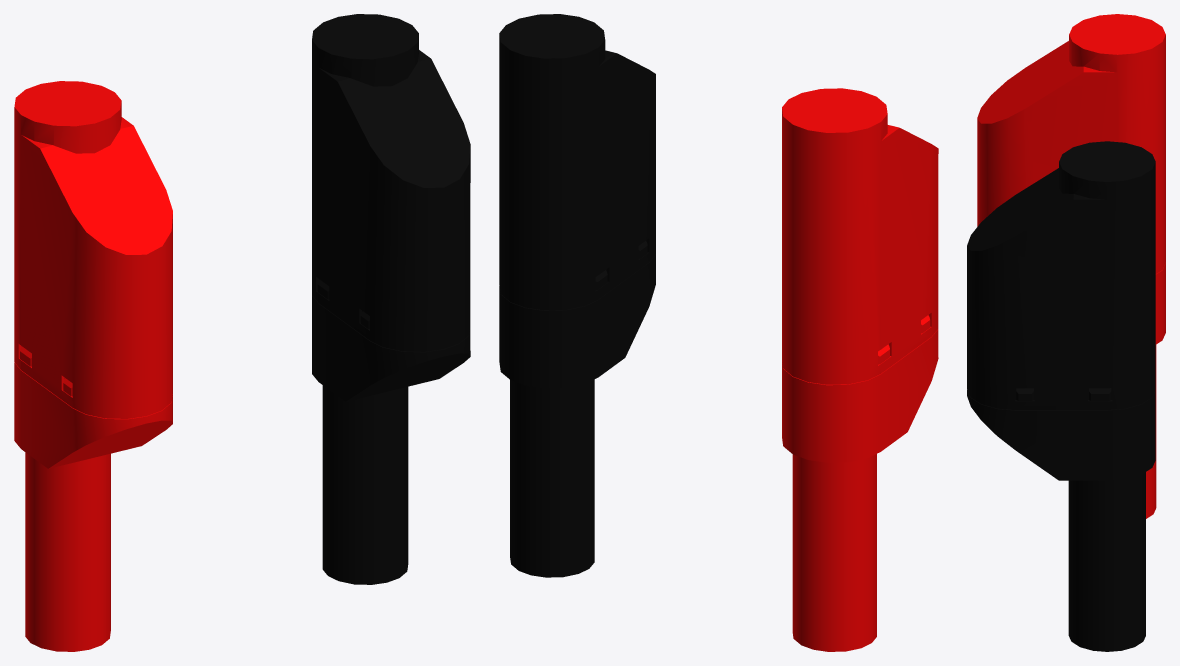
Rendered from Plugs.fbx.
3 views of the same model, side by side, from view 1: azimuth 30°, elevation 25°; view 2: azimuth 150°, elevation 25°; view 3: azimuth 270°, elevation 25° (orthographic). The views are drawn at different scales.
Visible parts, largest first — view 1: Red_plugin002, Red_plugin001; view 2: Red_plugin002, Red_plugin001; view 3: Red_plugin002, Red_plugin001.
Part boxes in pixels (x1,y1,x2,y2): Red_plugin002: [312, 14, 470, 584]; Red_plugin001: [14, 81, 172, 651]; Red_plugin002: [499, 14, 655, 577]; Red_plugin001: [782, 88, 938, 651]; Red_plugin002: [967, 141, 1155, 651]; Red_plugin001: [977, 14, 1165, 518].
Size of the model in its own units: 1.14 by 0.5713 by 1.5.
